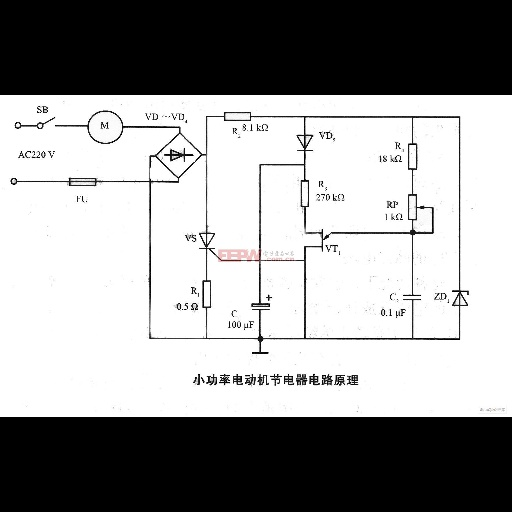capacitor: (401, 291, 423, 304)
firstresistance: (405, 140, 420, 172), (219, 109, 255, 122), (298, 177, 311, 211), (202, 277, 213, 310)
fuse: (62, 174, 99, 189)
seconddiode: (294, 132, 316, 155)
secondpolarcapacitor: (249, 295, 274, 312)
